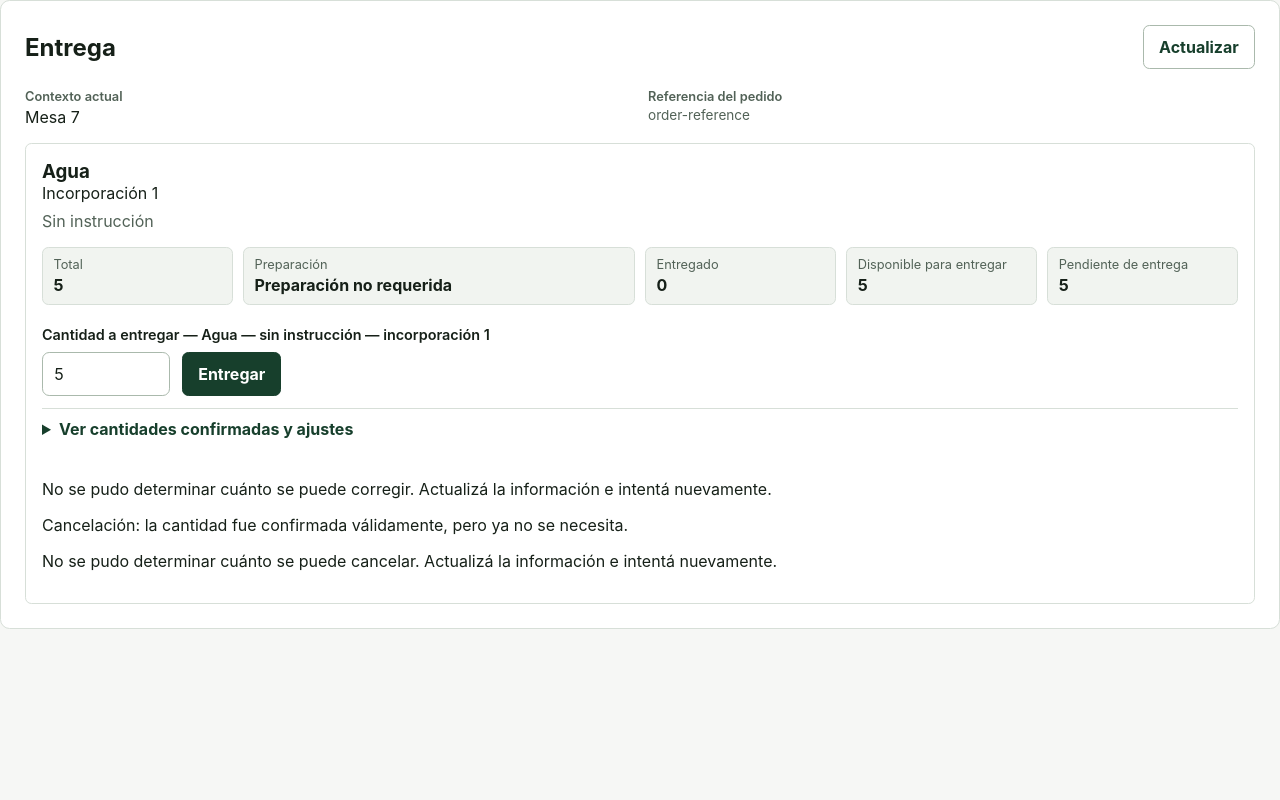
Test: DeliveryPanel › clears an uncertain intent after retry 409 and refreshes authority
Expected: the heading "Agua" is shown, x1=42 y1=160 x2=90 y2=183
Click the button "Entregar": (232, 374) x1=182 y1=352 x2=282 y2=396
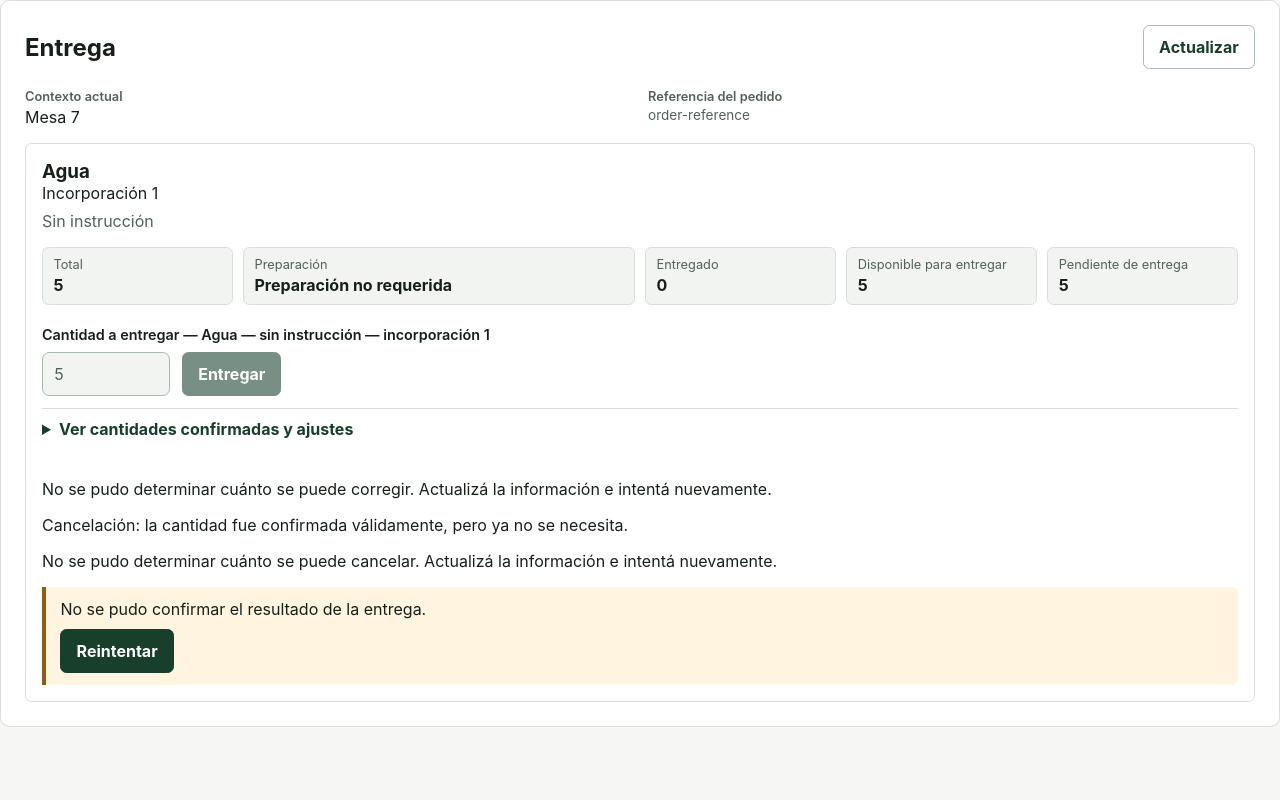
Now the button "Reintentar" is shown
Click the button "Reintentar": (117, 651) x1=60 y1=629 x2=174 y2=673
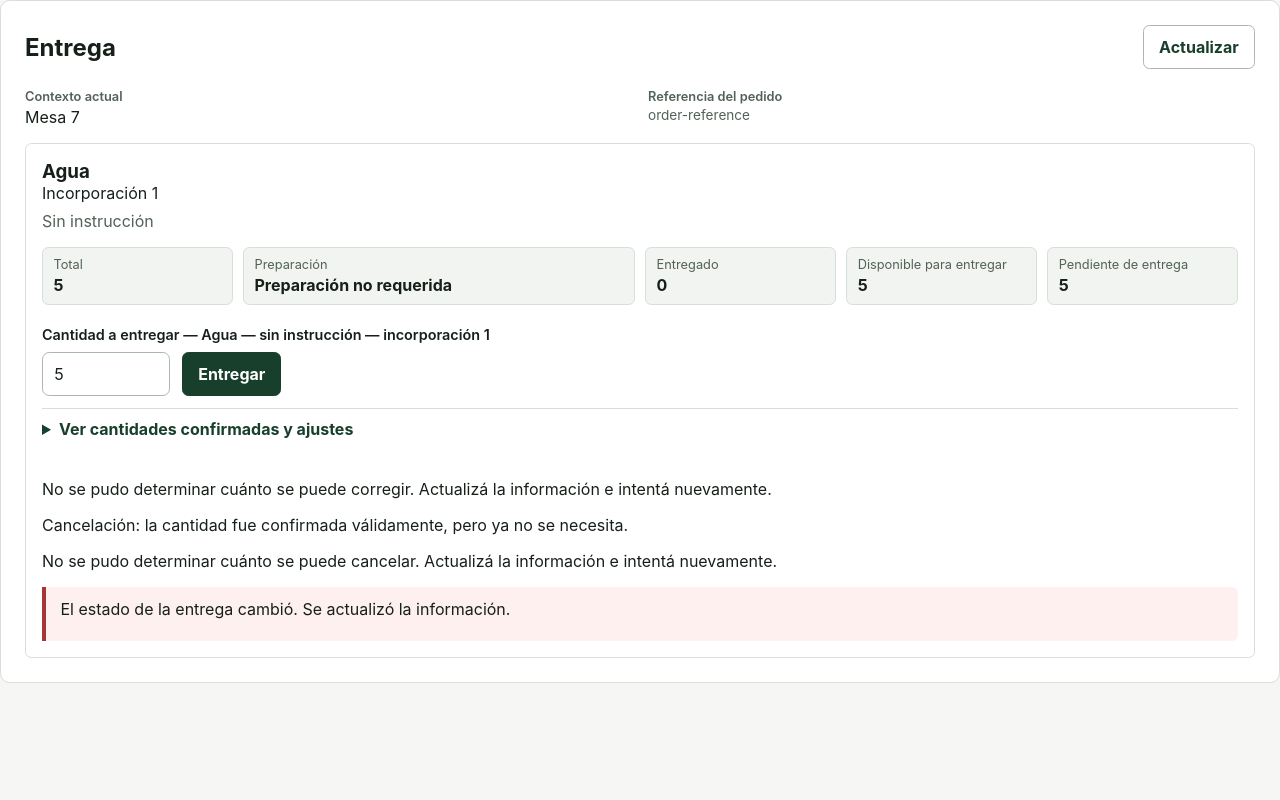
Now the text "El estado de la entrega cambió. Se actualizó la información." is shown, box x1=60 y1=599 x2=510 y2=619
Now the button "Reintentar" is gone
